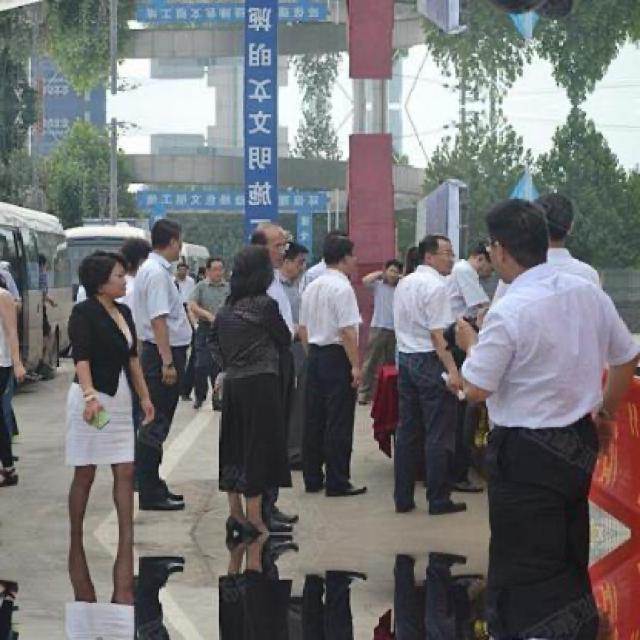sin casco: (481, 203, 558, 299), (72, 238, 153, 309), (218, 230, 291, 304), (384, 234, 460, 300), (310, 232, 382, 287)
